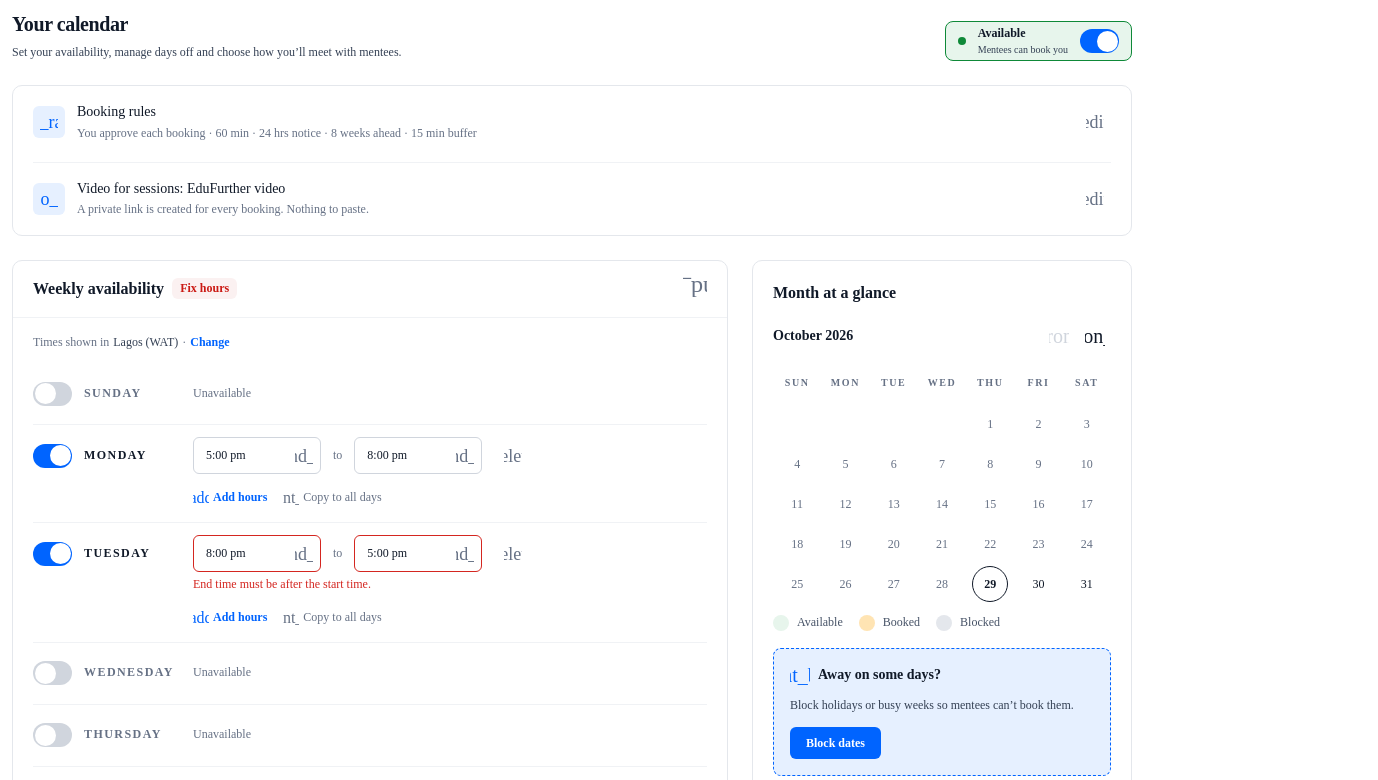
Scenario: CalendarScreen: weekly availability on a phone (mobileCollapse=on) › opened by itself for invalid hours, it stays open once they’re fixed
Click the switch named "Tuesday" next to "Tuesday": (52, 554) [33,542,72,566]
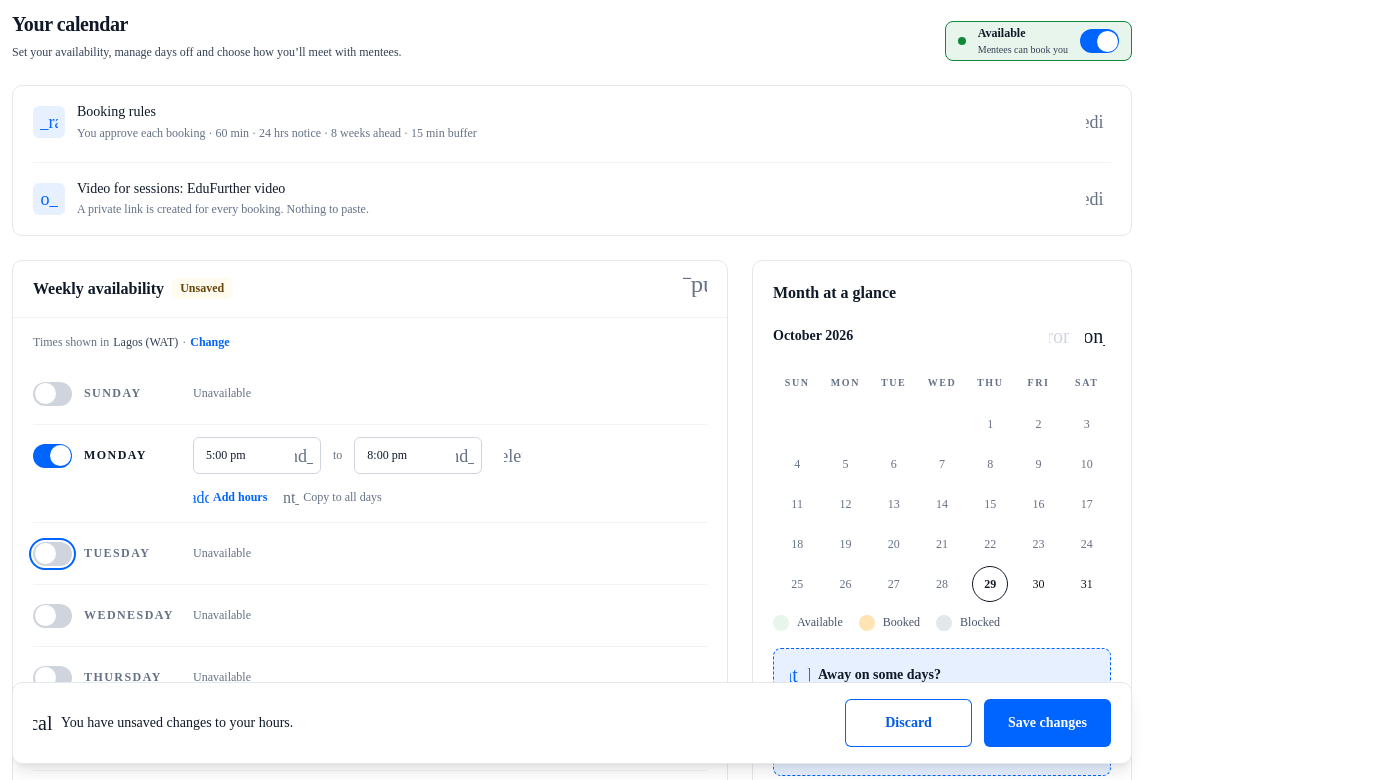
Now the button "Fix hours" is gone
